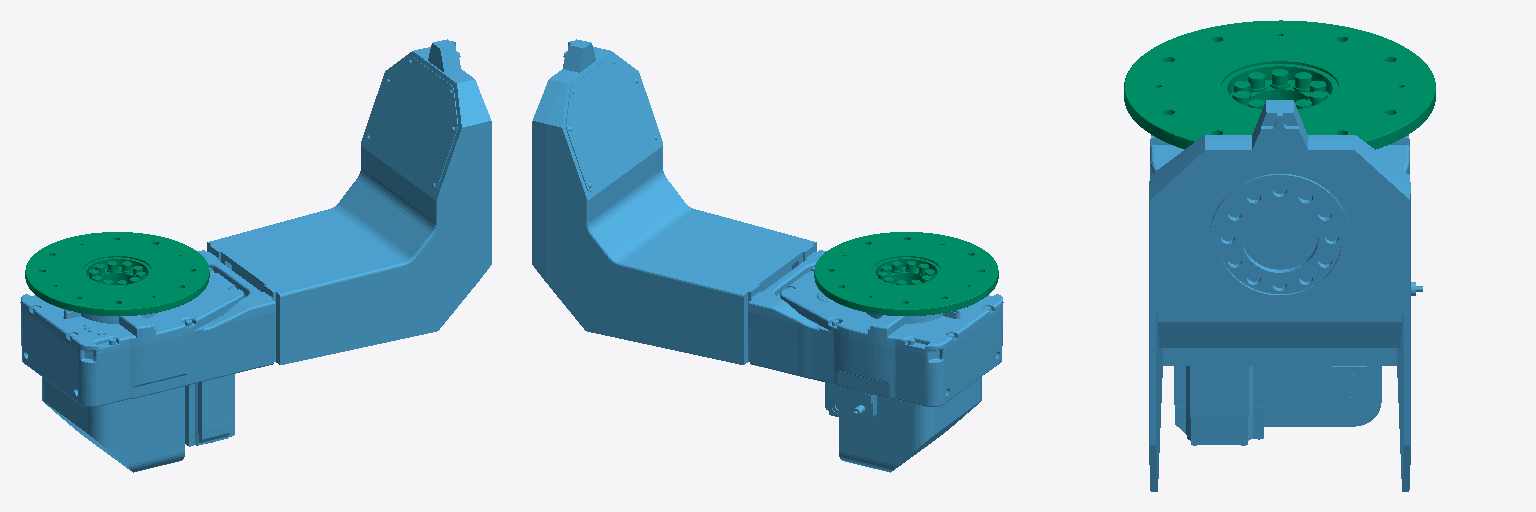
The robot description file, URDF, robot "Irbpa_500_D1450_H900_IRC5_rev02_CAD":
<?xml version="1.0" ?>
<robot name="Irbpa_500_D1450_H900_IRC5_rev02_CAD">

<link name="base_link">
  <inertial>
    <origin xyz="0.9160462992333828 0.001220924188015174 0.4703385051476699" rpy="0 0 0"/>
    <mass value="1936.8392986453007"/>
    <inertia ixx="342.738078" iyy="355.688976" izz="89.352896" ixy="-0.314378" iyz="-0.613083" ixz="-30.932763"/>
  </inertial>
  <visual>
    <origin xyz="0 0 0" rpy="0 0 0"/>
    <geometry>
      <mesh filename="meshes/base_link.stl" scale="0.001 0.001 0.001"/>
    </geometry>
  </visual>
  <collision>
    <origin xyz="0 0 0" rpy="0 0 0"/>
    <geometry>
      <mesh filename="meshes/base_link.stl" scale="0.001 0.001 0.001"/>
    </geometry>
  </collision>
</link>

<link name="Irbpa_500_D1450_H900_IRC5_rev02_arm500A_CAD_1">
  <inertial>
    <origin xyz="-0.7125104505241127 -0.0032796304127171165 -0.3647933186230975" rpy="0 0 0"/>
    <mass value="519.303264578469"/>
    <inertia ixx="22.626406" iyy="78.303916" izz="66.64645" ixy="-0.043181" iyz="-0.336" ixz="-25.248478"/>
  </inertial>
  <visual>
    <origin xyz="-0.722 0.0 -1.0" rpy="0 0 0"/>
    <geometry>
      <mesh filename="meshes/Irbpa_500_D1450_H900_IRC5_rev02_arm500A_CAD_1.stl" scale="0.001 0.001 0.001"/>
    </geometry>
  </visual>
  <collision>
    <origin xyz="-0.722 0.0 -1.0" rpy="0 0 0"/>
    <geometry>
      <mesh filename="meshes/Irbpa_500_D1450_H900_IRC5_rev02_arm500A_CAD_1.stl" scale="0.001 0.001 0.001"/>
    </geometry>
  </collision>
</link>

<link name="Irbpa_500_D1450_H900_IRC5_rev02_platter_d450_CAD_1">
  <inertial>
    <origin xyz="-0.0011124864300724735 -2.1966854710266646e-07 0.0433678654247619" rpy="0 0 0"/>
    <mass value="21.25030383337227"/>
    <inertia ixx="0.228504" iyy="0.231342" izz="0.446816" ixy="0.0" iyz="0.0" ixz="-0.000583"/>
  </inertial>
  <visual>
    <origin xyz="0.225 -5e-06 -0.738" rpy="0 0 0"/>
    <geometry>
      <mesh filename="meshes/Irbpa_500_D1450_H900_IRC5_rev02_platter_d450_CAD_1.stl" scale="0.001 0.001 0.001"/>
    </geometry>
  </visual>
  <collision>
    <origin xyz="0.225 -5e-06 -0.738" rpy="0 0 0"/>
    <geometry>
      <mesh filename="meshes/Irbpa_500_D1450_H900_IRC5_rev02_platter_d450_CAD_1.stl" scale="0.001 0.001 0.001"/>
    </geometry>
  </collision>
</link>

<joint name="j1" type="continuous">
  <origin xyz="0.722 0.0 1.0" rpy="0 0 0"/>
  <parent link="base_link"/>
  <child link="Irbpa_500_D1450_H900_IRC5_rev02_arm500A_CAD_1"/>
  <axis xyz="-1.0 0.0 0.0"/>
</joint>

<joint name="j2" type="continuous">
  <origin xyz="-0.947 5e-06 -0.262" rpy="0 0 0"/>
  <parent link="Irbpa_500_D1450_H900_IRC5_rev02_arm500A_CAD_1"/>
  <child link="Irbpa_500_D1450_H900_IRC5_rev02_platter_d450_CAD_1"/>
  <axis xyz="-0.0 0.0 -1.0"/>
</joint>

</robot>

--- Render facts (derived) ---
The picture shows the robot from 3 angles, left to right: view 1: azimuth 30°, elevation 25°; view 2: azimuth 150°, elevation 25°; view 3: azimuth 270°, elevation 25°; orthographic projection.
Model Irbpa_500_D1450_H900_IRC5_rev02_CAD with 3 links and 2 joints (2 continuous), rooted at base_link, posed all joints at 0.
Links seen in each view (by area): view 1: Irbpa_500_D1450_H900_IRC5_rev02_arm500A_CAD_1, Irbpa_500_D1450_H900_IRC5_rev02_platter_d450_CAD_1; view 2: Irbpa_500_D1450_H900_IRC5_rev02_arm500A_CAD_1, Irbpa_500_D1450_H900_IRC5_rev02_platter_d450_CAD_1; view 3: Irbpa_500_D1450_H900_IRC5_rev02_arm500A_CAD_1, Irbpa_500_D1450_H900_IRC5_rev02_platter_d450_CAD_1.
Boxes of the visible links, box(x1,y1,x2,y2) form: Irbpa_500_D1450_H900_IRC5_rev02_arm500A_CAD_1: box(20, 39, 491, 472); Irbpa_500_D1450_H900_IRC5_rev02_platter_d450_CAD_1: box(25, 232, 209, 315); Irbpa_500_D1450_H900_IRC5_rev02_arm500A_CAD_1: box(532, 39, 1003, 472); Irbpa_500_D1450_H900_IRC5_rev02_platter_d450_CAD_1: box(814, 232, 998, 315); Irbpa_500_D1450_H900_IRC5_rev02_arm500A_CAD_1: box(1149, 100, 1422, 491); Irbpa_500_D1450_H900_IRC5_rev02_platter_d450_CAD_1: box(1124, 20, 1435, 149).
Size in the robot's own frame: 1.18 by 0.4499 by 0.8895 metres.
Meshes: 3 distinct files referenced, 2 mesh visuals loaded (2 binary STL); not drawn: 1 (reference not matched to a file when rendering).